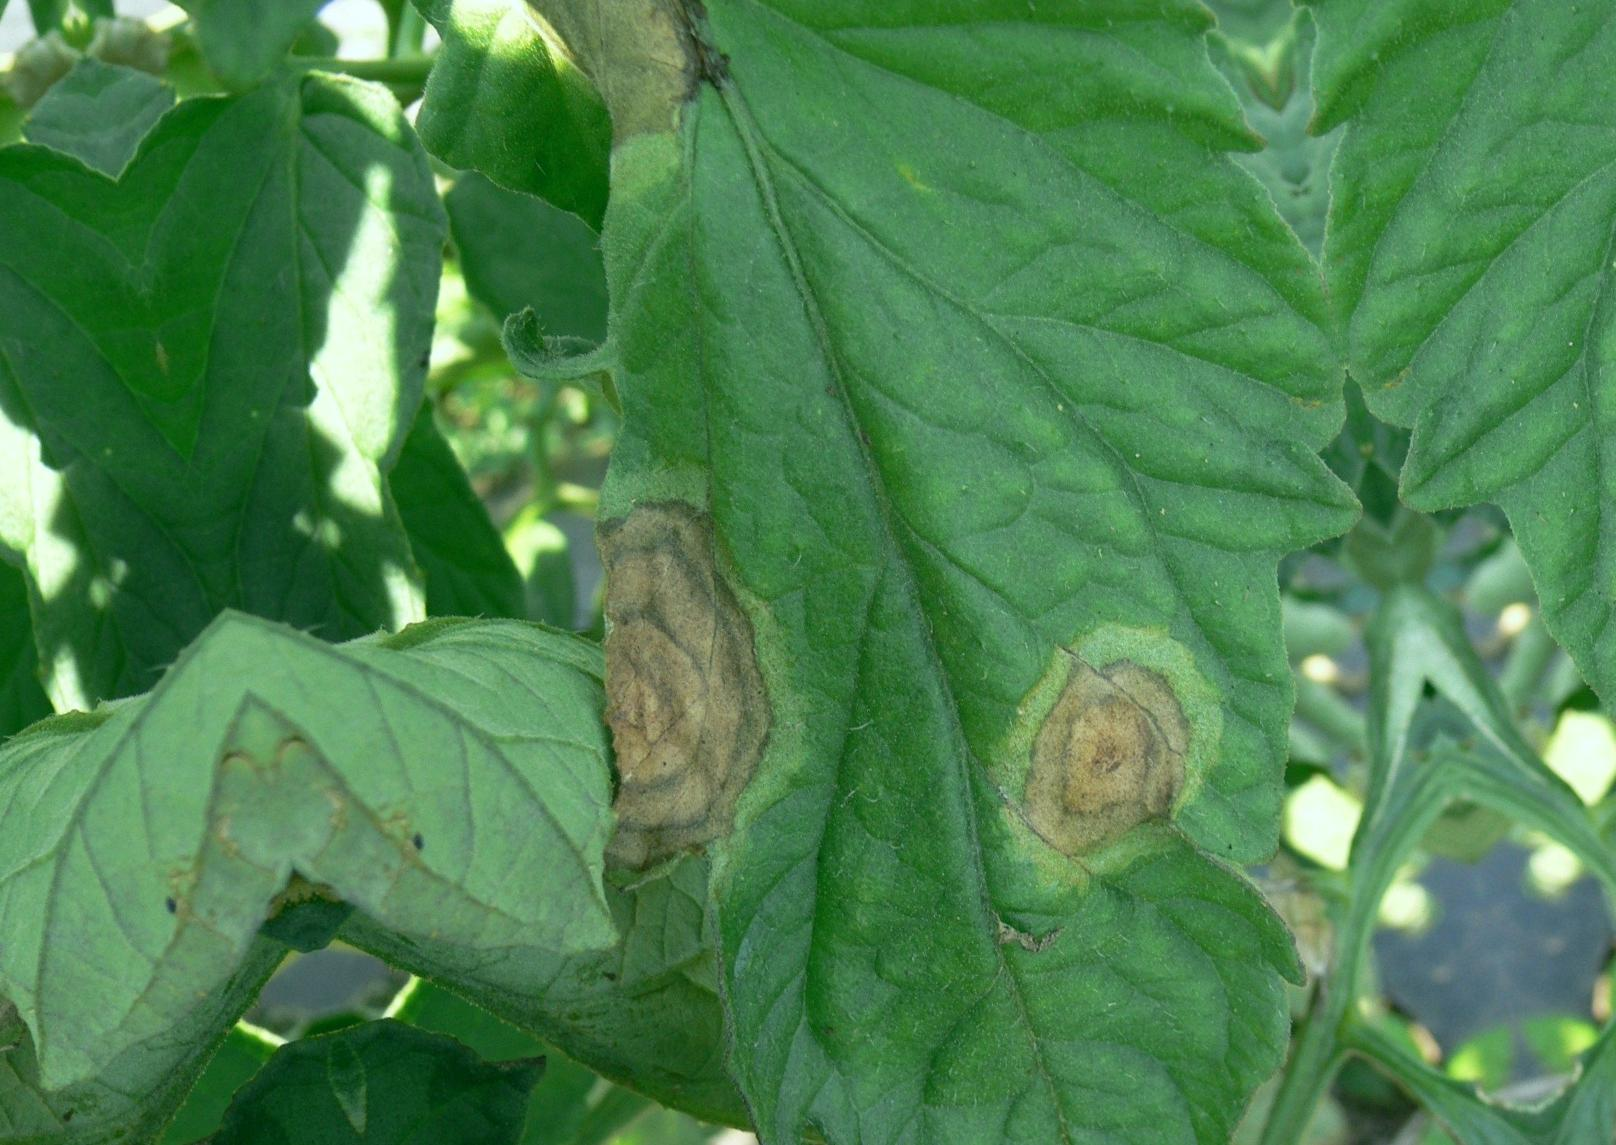Tomato leaf late blight: (345, 0, 1540, 1145)
